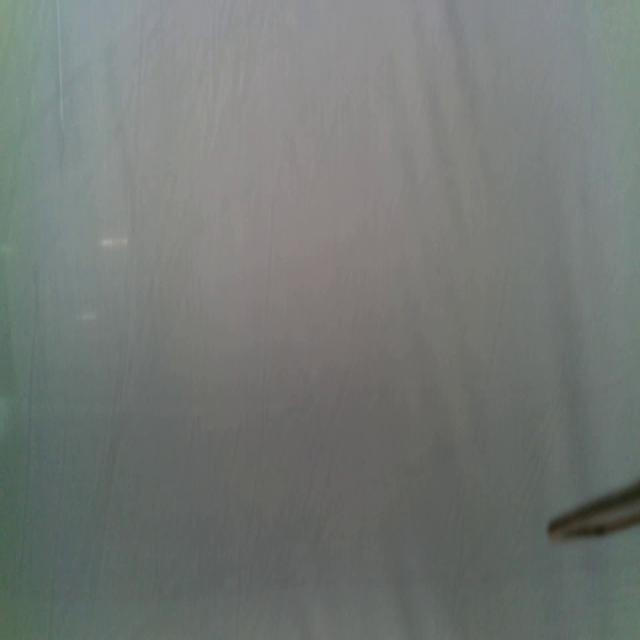crease: (54, 0, 65, 127)
